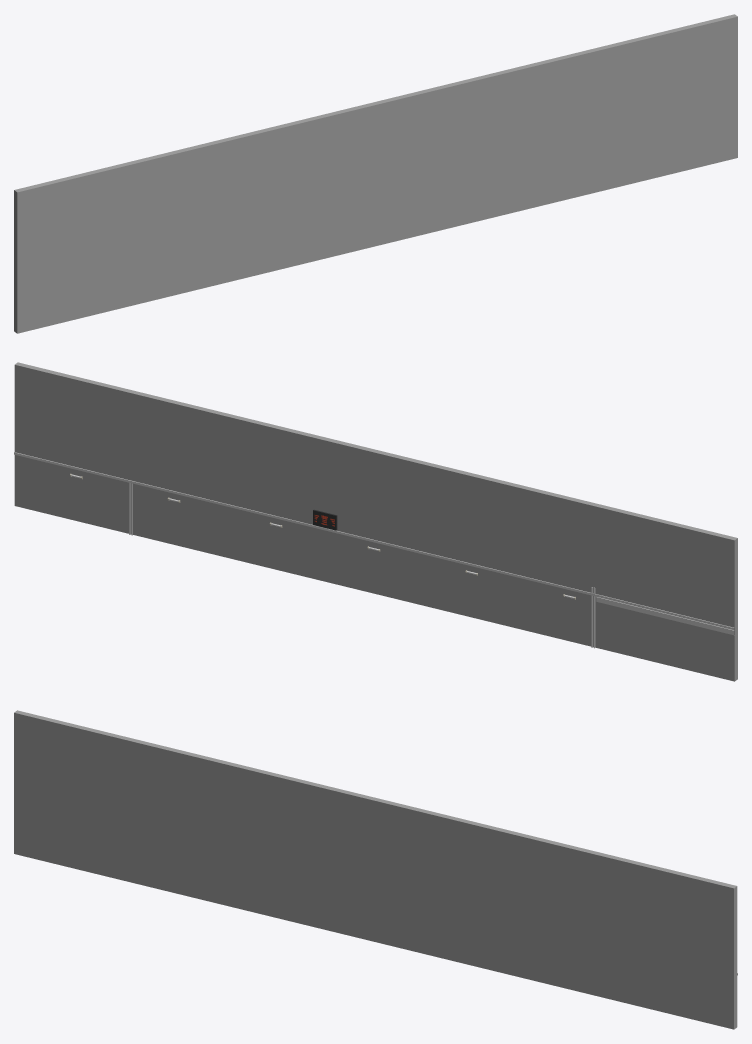
File: z_qiang_nan.fbx
The picture shows the model from 3 angles, top to bottom: view 1: azimuth 30°, elevation 25°; view 2: azimuth 150°, elevation 25°; view 3: azimuth 330°, elevation 25°; orthographic projection.
Visible parts, largest first — view 1: qiang_nan; view 2: qiang_nan; view 3: qiang_nan.
Boxes of the visible parts, box(x1,y1,x2,y2) form: qiang_nan: box(14, 14, 737, 333); qiang_nan: box(14, 362, 737, 681); qiang_nan: box(14, 710, 737, 1029).
Size of the model in its own units: 6302 by 1184 by 62.82.
